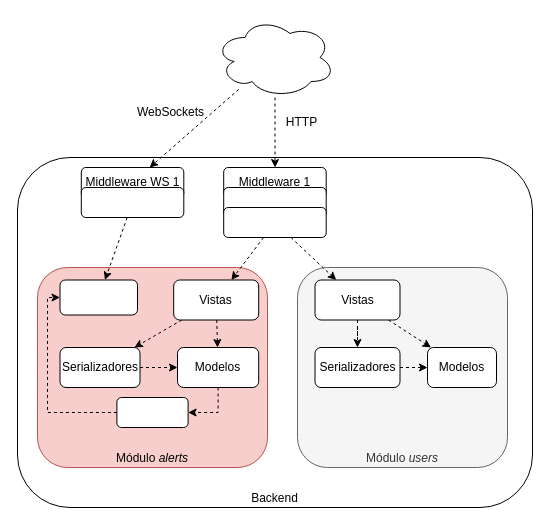
The diagram is 550 pixels wide and 525 high, and some of its shapes have lost their labels. The shapes that lost their labels are listed below. From the top down, each one's centre as x and y in pixels, then its label:
At point (274, 57): "Internet".
At point (132, 202): "Middleware WS N".
At point (274, 202): "Middleware 2".
At point (274, 222): "Middleware N".
At point (98, 297): "Consumidores".
At point (152, 412): "Señales".
